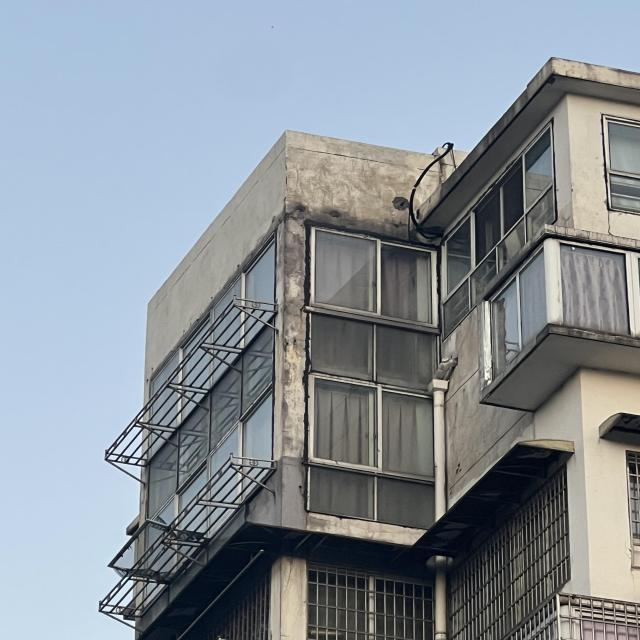damp: (286, 134, 426, 237), (278, 220, 310, 455)
